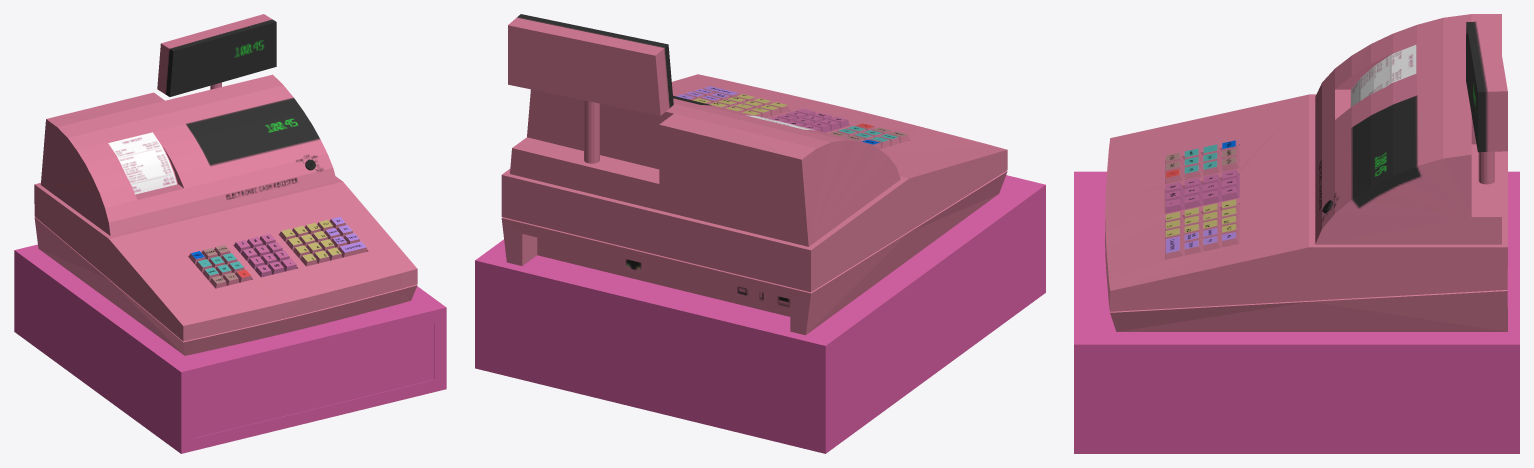
File: cash machine 01.fbx
The picture shows the model from 3 angles, left to right: view 1: azimuth 30°, elevation 25°; view 2: azimuth 150°, elevation 25°; view 3: azimuth 270°, elevation 25°; orthographic projection. The views are drawn at different scales.
Parts seen in each view (by area): view 1: cash_machine_01; view 2: cash_machine_01; view 3: cash_machine_01.
Part boxes in pixels (bbox=[...]): cash_machine_01: bbox=[14, 14, 446, 453]; cash_machine_01: bbox=[475, 14, 1045, 453]; cash_machine_01: bbox=[1074, 14, 1519, 453].
Size of the model in its own units: 34 by 32 by 37.
1 material, 1 textured.
